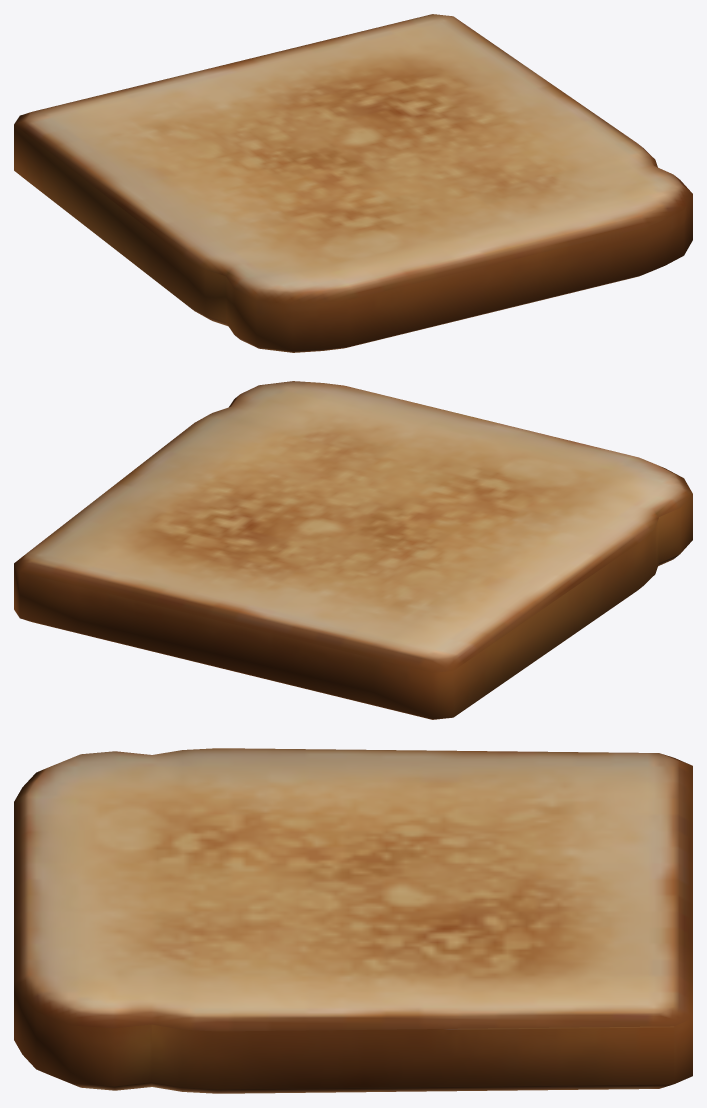
Rendered from BBQToast.glb.
3 renders of one model, top to bottom at view 1: azimuth 30°, elevation 25°; view 2: azimuth 150°, elevation 25°; view 3: azimuth 270°, elevation 25°, orthographic. The views are drawn at different scales.
Parts seen in each view (by area): view 1: mbp; view 2: mbp; view 3: mbp.
Part boxes in pixels (x1,y1,x2,y2): mbp: (14, 14, 692, 352); mbp: (14, 381, 692, 719); mbp: (14, 748, 692, 1093).
Bounding box in the file's own units: 1.5 × 0.1878 × 1.55.
1 material, 1 textured.
